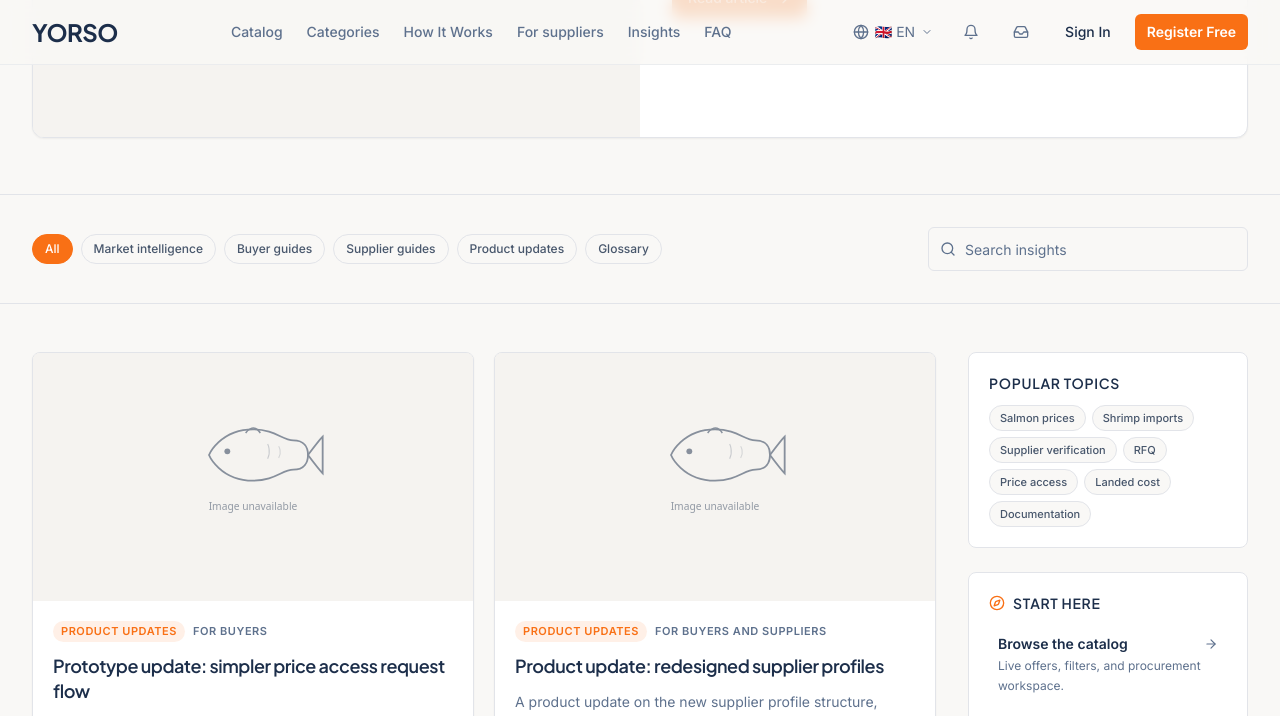
Test: /blog · YORSO Insights › shows empty state when nothing matches
(page scrolled)
Type "zzz-no-match-xyz-123" into the search field. click: (1088, 249)
box: 928,227 -> 1248,271
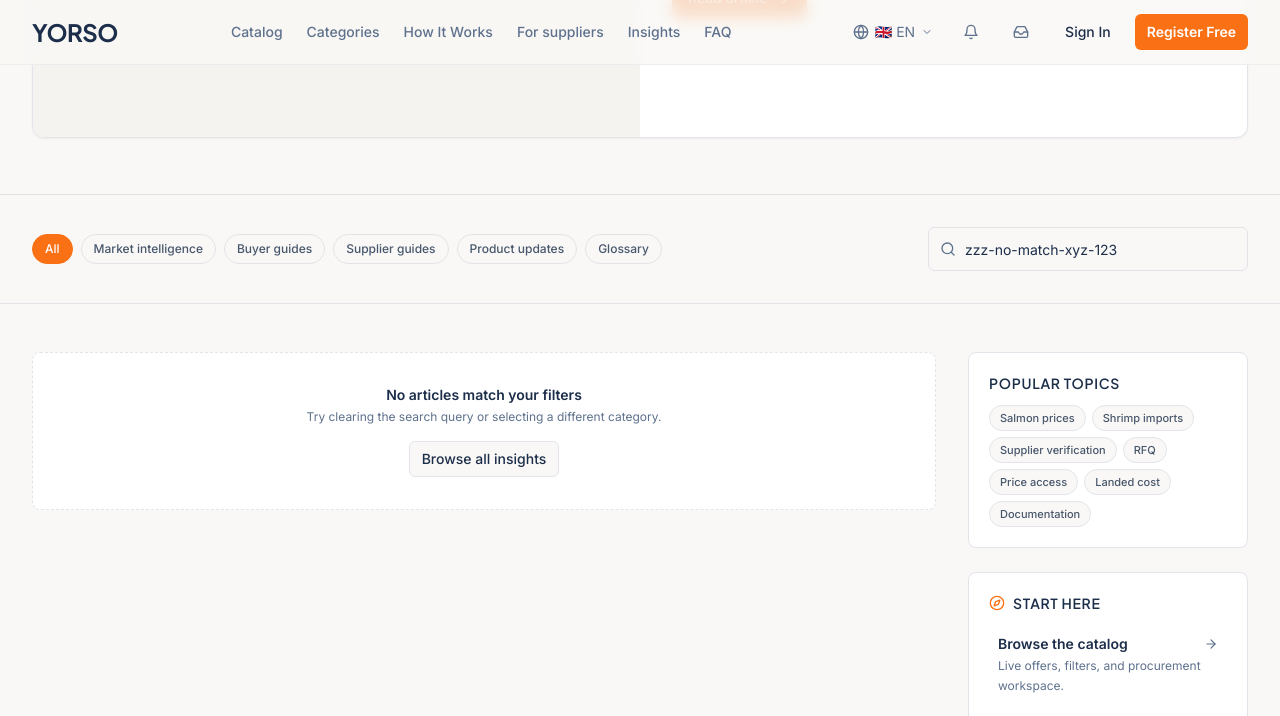
Now the element with test id "blog-empty" is shown, box 32,352 -> 936,510
